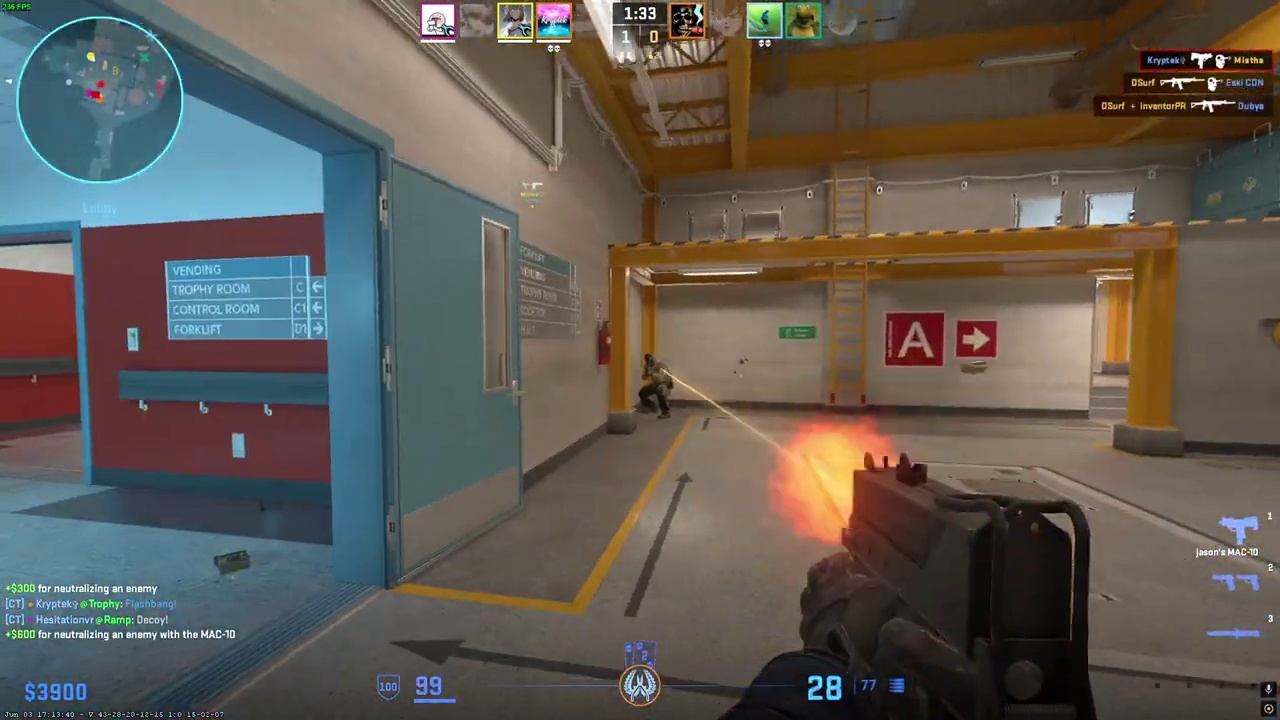Terrorist: (638, 353, 672, 419)
